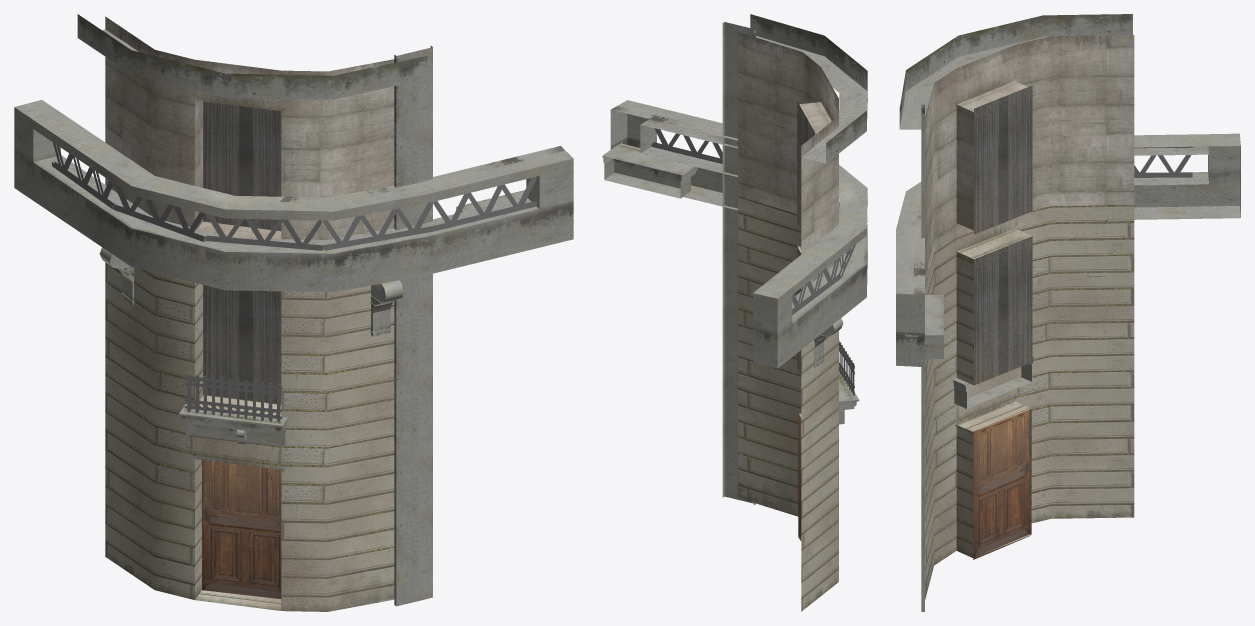
Rendered from ParisBuildingRoundCorner.fbx.
The picture shows the model from 3 angles, left to right: view 1: azimuth 30°, elevation 25°; view 2: azimuth 150°, elevation 25°; view 3: azimuth 270°, elevation 25°; orthographic projection. The views are drawn at different scales.
Parts seen in each view (by area): view 1: polySurface725, polySurface90, pCube54, polySurface640, polySurface175, polySurface601, polySurface604, polySurface663, polySurface701, polySurface697, polySurface696, polySurface698 (+4 smaller); view 2: polySurface725, polySurface90, pCube54, polySurface175, polySurface377, polySurface604, polySurface696, polySurface700, polySurface663, polySurface701, polySurface640, polySurface94; view 3: polySurface725, polySurface90, polySurface604, polySurface601, polySurface640, polySurface175, pCube54, polySurface377, polySurface663, polySurface700.
Boxes of the visible parts, x1,y1,x2,y2 form: polySurface725: (105,16,394,611); polySurface90: (14,100,573,292); pCube54: (394,46,432,606); polySurface640: (202,460,281,598); polySurface175: (77,14,427,99); polySurface601: (203,285,281,404); polySurface604: (203,101,281,231); polySurface663: (179,404,288,446); polySurface701: (184,374,282,422); polySurface697: (323,202,433,250); polySurface696: (432,177,536,231); polySurface698: (206,214,322,250); polySurface725: (738,32,838,611); polySurface90: (610,100,867,368); pCube54: (722,22,755,505); polySurface175: (750,14,867,163); polySurface377: (602,143,697,198); polySurface604: (797,101,815,229); polySurface696: (651,128,722,163); polySurface700: (792,257,841,314); polySurface663: (839,371,859,424); polySurface701: (839,340,854,395); polySurface640: (798,413,801,541); polySurface94: (814,318,843,367); polySurface725: (925,35,1134,599); polySurface90: (896,133,1240,366); polySurface604: (974,85,1032,234); polySurface601: (974,236,1032,385); polySurface640: (973,407,1030,559); polySurface175: (899,14,1132,129); pCube54: (921,104,924,611); polySurface377: (907,295,943,358); polySurface663: (953,356,1033,408); polySurface700: (1134,146,1192,177).
Size of the model in its own units: 654 by 938 by 591.
